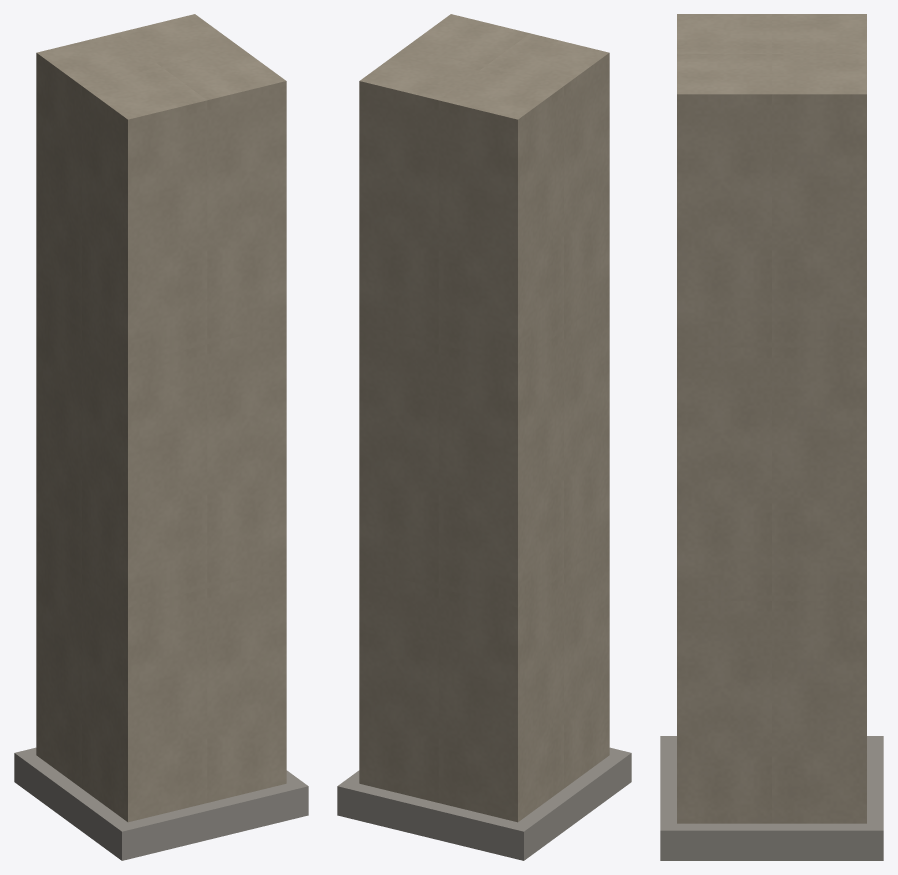
Rendered from column.glb.
3 views of the same model, side by side, from view 1: azimuth 30°, elevation 25°; view 2: azimuth 150°, elevation 25°; view 3: azimuth 270°, elevation 25° (orthographic). The views are drawn at different scales.
Visible parts, largest first — view 1: Column; view 2: Column; view 3: Column.
Part boxes in pixels (<box>): Column: <box>14,14,308,860</box>; Column: <box>337,14,631,860</box>; Column: <box>660,14,883,860</box>.
Bounding box in the file's own units: 0.8 × 3 × 0.8.
Materials: 2 (1 with a texture image).
